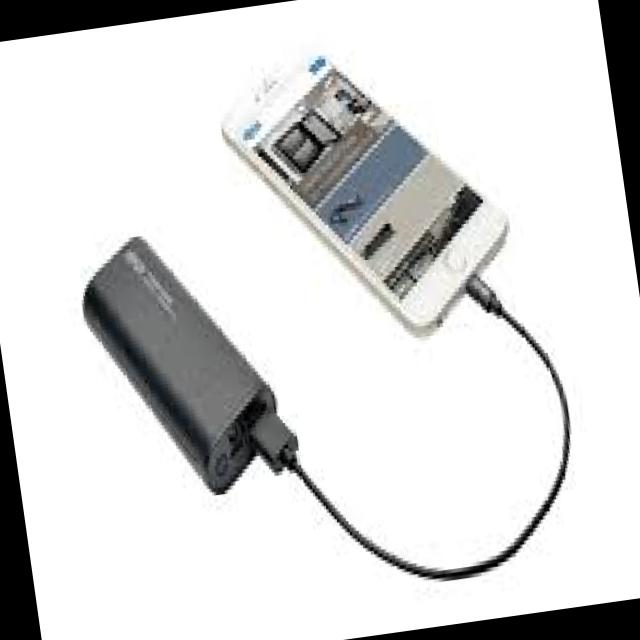portable-charger: (73, 214, 294, 524)
